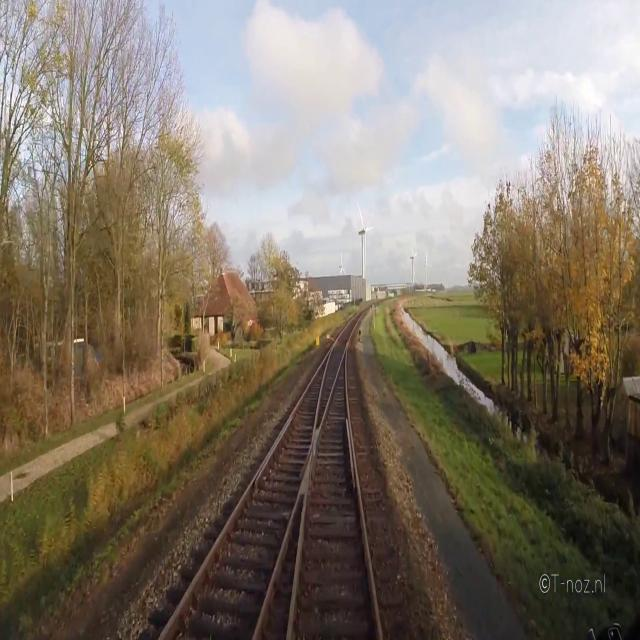rail-track: (163, 361, 325, 639), (292, 358, 378, 639), (316, 316, 358, 430)
